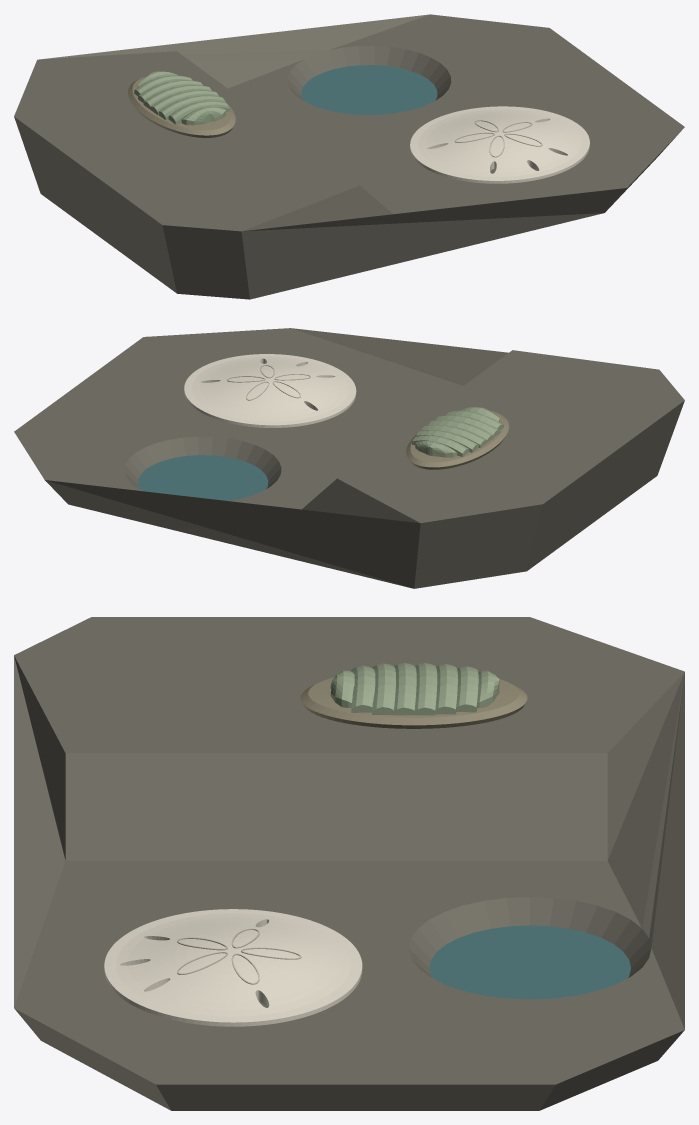
The picture shows the model from 3 angles, top to bottom: view 1: azimuth 30°, elevation 25°; view 2: azimuth 150°, elevation 25°; view 3: azimuth 270°, elevation 25°; orthographic projection. The views are drawn at different scales.
Parts seen in each view (by area): view 1: SCENE_ONLY__RockLedgeAndStillPool, sanddollar__WholeLowDomeFiveLunuleTest, chiton__WholeOvalBodyAndContinuousGirdle, chiton__WholeDorsalShellValve_01, chiton__WholeDorsalShellValve_03, chiton__WholeDorsalShellValve_02, chiton__WholeDorsalShellValve_04, chiton__WholeDorsalShellValve_05, chiton__WholeDorsalShellValve_06; view 2: SCENE_ONLY__RockLedgeAndStillPool, sanddollar__WholeLowDomeFiveLunuleTest, chiton__WholeOvalBodyAndContinuousGirdle, chiton__WholeDorsalShellValve_08, chiton__WholeDorsalShellValve_05, chiton__WholeDorsalShellValve_06, chiton__WholeDorsalShellValve_07, chiton__WholeDorsalShellValve_04, chiton__WholeDorsalShellValve_03; view 3: SCENE_ONLY__RockLedgeAndStillPool, sanddollar__WholeLowDomeFiveLunuleTest, chiton__WholeOvalBodyAndContinuousGirdle, chiton__WholeDorsalShellValve_05, chiton__WholeDorsalShellValve_04, chiton__WholeDorsalShellValve_03, chiton__WholeDorsalShellValve_06, chiton__WholeDorsalShellValve_02, chiton__WholeDorsalShellValve_07, chiton__WholeDorsalShellValve_01.
Boxes of the visible parts, x1=… form: SCENE_ONLY__RockLedgeAndStillPool: x1=14, y1=14, x2=684, y2=299; sanddollar__WholeLowDomeFiveLunuleTest: x1=410, y1=106, x2=589, y2=183; chiton__WholeOvalBodyAndContinuousGirdle: x1=128, y1=77, x2=235, y2=137; chiton__WholeDorsalShellValve_01: x1=181, y1=106, x2=225, y2=125; chiton__WholeDorsalShellValve_03: x1=158, y1=95, x2=225, y2=120; chiton__WholeDorsalShellValve_02: x1=168, y1=101, x2=230, y2=124; chiton__WholeDorsalShellValve_04: x1=150, y1=90, x2=219, y2=115; chiton__WholeDorsalShellValve_05: x1=143, y1=85, x2=211, y2=109; chiton__WholeDorsalShellValve_06: x1=138, y1=80, x2=202, y2=102; SCENE_ONLY__RockLedgeAndStillPool: x1=14, y1=328, x2=684, y2=588; sanddollar__WholeLowDomeFiveLunuleTest: x1=184, y1=354, x2=356, y2=427; chiton__WholeOvalBodyAndContinuousGirdle: x1=406, y1=410, x2=509, y2=469; chiton__WholeDorsalShellValve_08: x1=415, y1=441, x2=457, y2=457; chiton__WholeDorsalShellValve_05: x1=421, y1=425, x2=486, y2=447; chiton__WholeDorsalShellValve_06: x1=416, y1=430, x2=478, y2=452; chiton__WholeDorsalShellValve_07: x1=412, y1=435, x2=469, y2=456; chiton__WholeDorsalShellValve_04: x1=428, y1=420, x2=494, y2=442; chiton__WholeDorsalShellValve_03: x1=436, y1=415, x2=500, y2=436; SCENE_ONLY__RockLedgeAndStillPool: x1=14, y1=617, x2=684, y2=1110; sanddollar__WholeLowDomeFiveLunuleTest: x1=104, y1=909, x2=362, y2=1026; chiton__WholeOvalBodyAndContinuousGirdle: x1=300, y1=677, x2=527, y2=728; chiton__WholeDorsalShellValve_05: x1=414, y1=663, x2=437, y2=715; chiton__WholeDorsalShellValve_04: x1=392, y1=663, x2=416, y2=715; chiton__WholeDorsalShellValve_03: x1=372, y1=663, x2=395, y2=714; chiton__WholeDorsalShellValve_06: x1=435, y1=664, x2=457, y2=714; chiton__WholeDorsalShellValve_02: x1=351, y1=665, x2=375, y2=712; chiton__WholeDorsalShellValve_07: x1=456, y1=666, x2=478, y2=712; chiton__WholeDorsalShellValve_01: x1=330, y1=670, x2=354, y2=707.
Size of the model in its own units: 0.36 by 0.0645 by 0.26.
